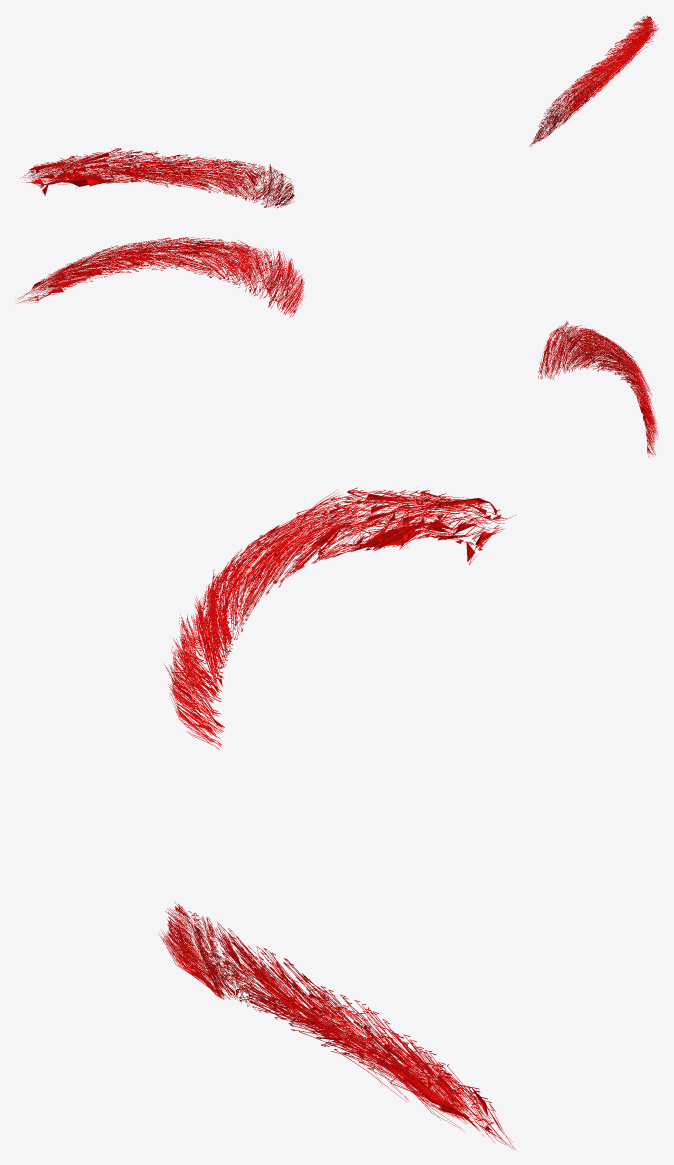
File: mindfront_eyebrows_14_F.glb
The picture shows the model from 3 angles, top to bottom: view 1: azimuth 30°, elevation 25°; view 2: azimuth 150°, elevation 25°; view 3: azimuth 270°, elevation 25°; orthographic projection. The views are drawn at different scales.
Bounding box in the file's own units: 0.1273 × 0.0129 × 0.0309.
1 material, 1 textured.
